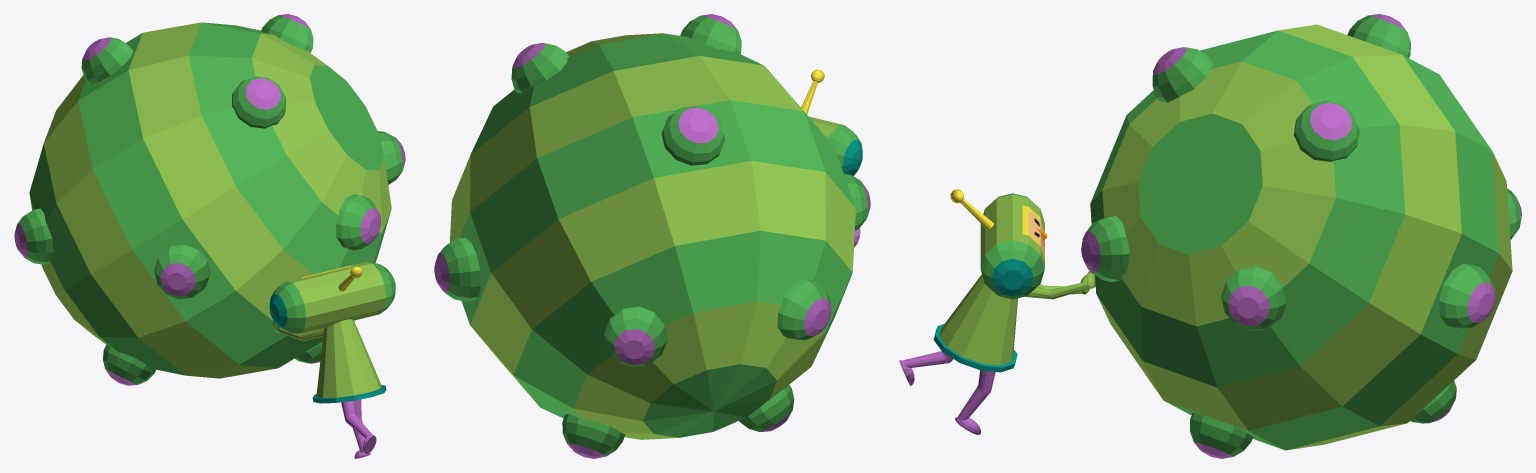
File: scene_4DYvIFtb5b.glb
3 renders of one model, left to right at view 1: azimuth 30°, elevation 25°; view 2: azimuth 150°, elevation 25°; view 3: azimuth 270°, elevation 25°, orthographic. The views are drawn at different scales.
Visible parts, largest first — view 1: Node; view 2: Node; view 3: Node.
Part boxes in pixels (left/top/right/bottom): Node: left=14, top=14, right=405, bottom=458; Node: left=434, top=14, right=870, bottom=458; Node: left=899, top=14, right=1521, bottom=458.
Bounding box in the file's own units: 1.66 × 1.48 × 2.2.
